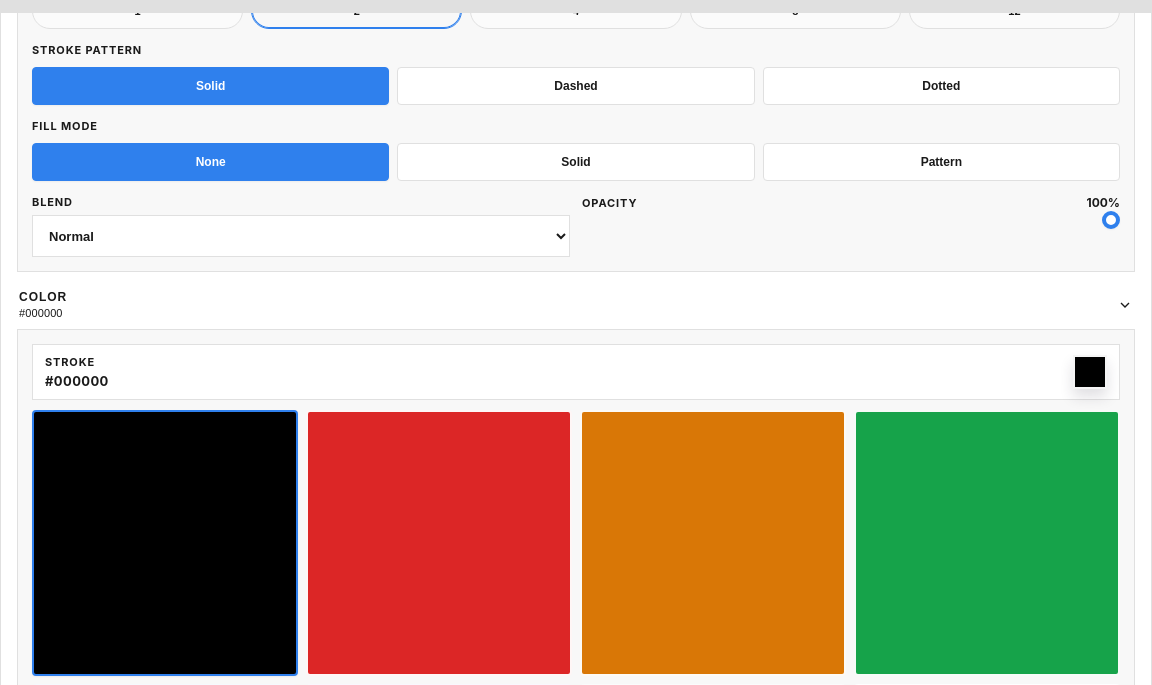
it: PropertiesPanel › keeps floating pickers inside the app shell when rendered in an embedded host
The width and height of the screenshot is (1152, 685).
(page scrolled)
Click the button titled "Edit stroke color".
click(1090, 372)  # box [1073,355,1107,389]
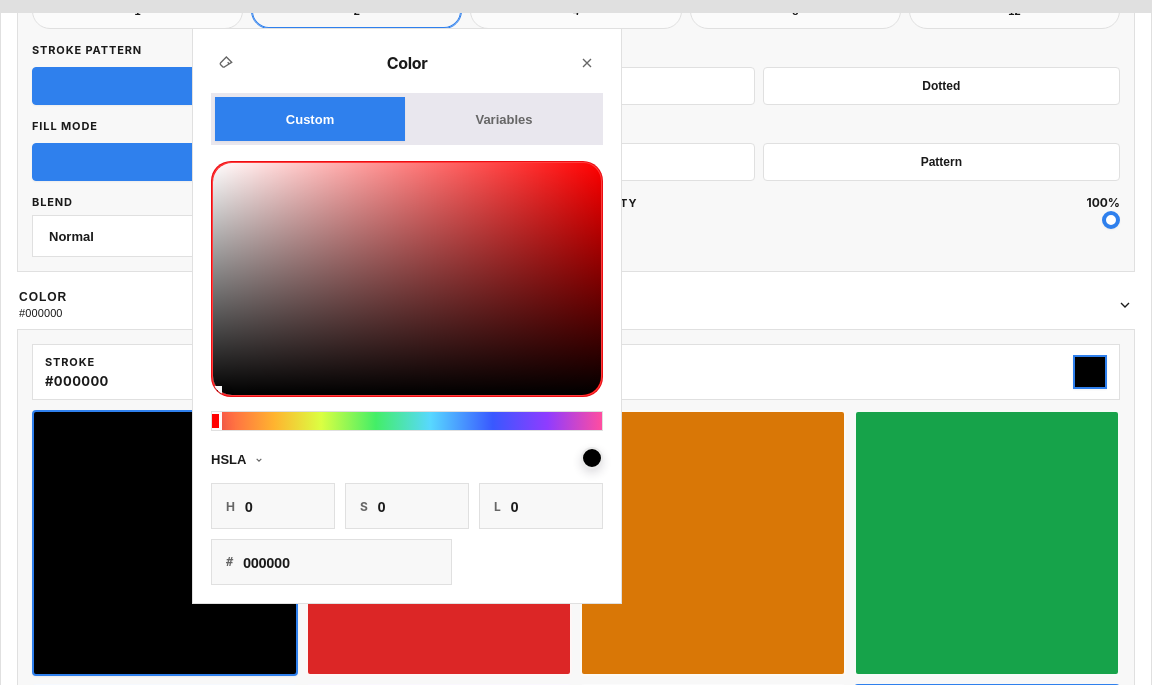
Expected: the element with class "floating-color-picker-layer" is shown, [192,28,622,604]
